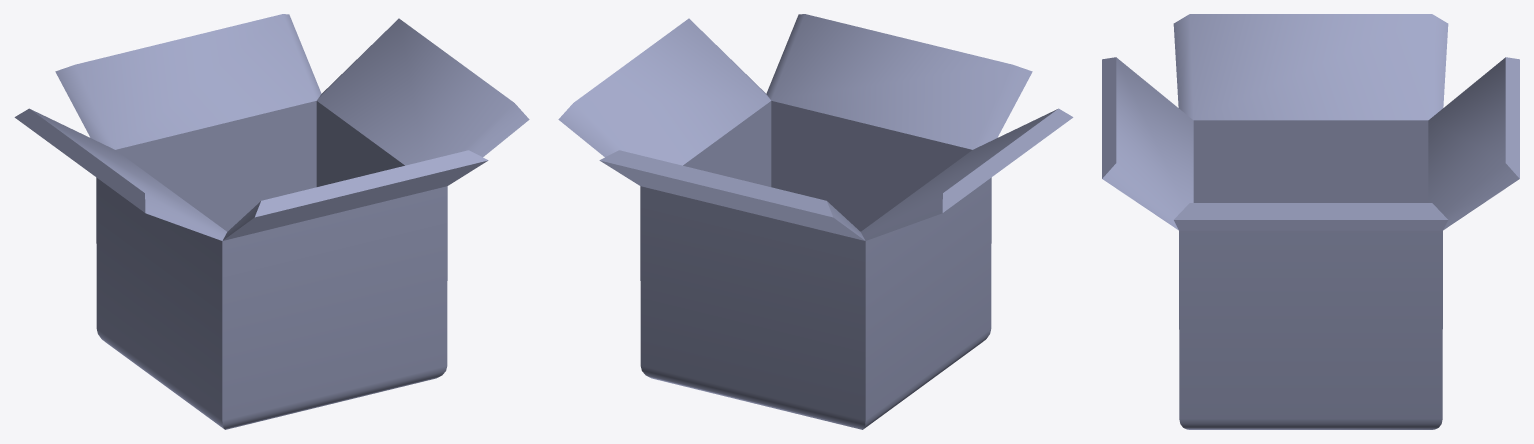
The picture shows the model from 3 angles, left to right: view 1: azimuth 30°, elevation 25°; view 2: azimuth 150°, elevation 25°; view 3: azimuth 270°, elevation 25°; orthographic projection. The views are drawn at different scales.
Visible parts, largest first — view 1: Box_1; view 2: Box_1; view 3: Box_1.
Part boxes in pixels (x1,y1,x2,y2): Box_1: (14, 14, 529, 429); Box_1: (558, 14, 1073, 429); Box_1: (1102, 14, 1519, 429).
Bounding box in the file's own units: 0.3767 × 0.2422 × 0.3387.
